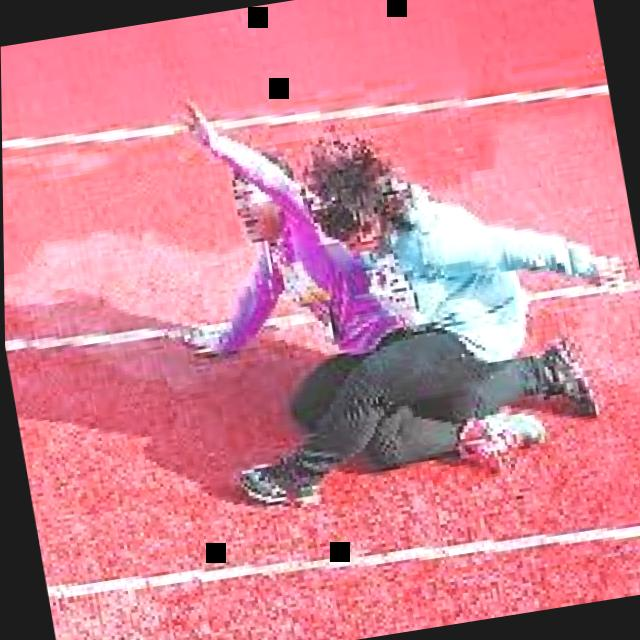Fall-Detected: (129, 29, 640, 516)
